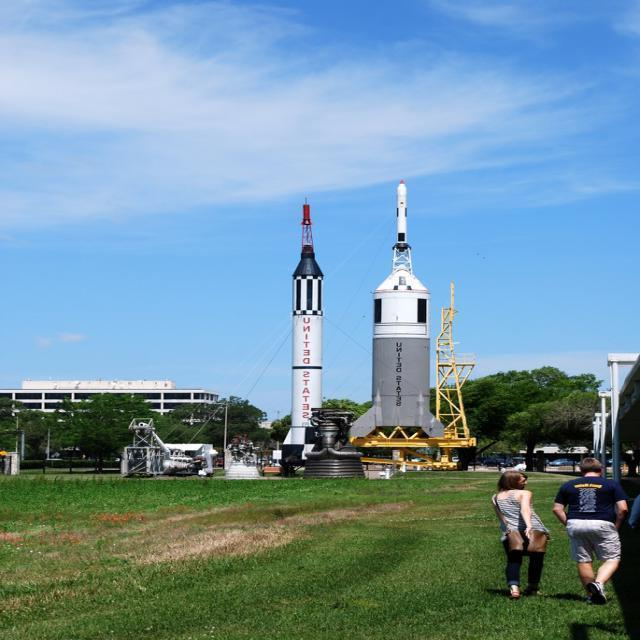missile: (362, 178, 446, 448), (280, 194, 332, 450)
